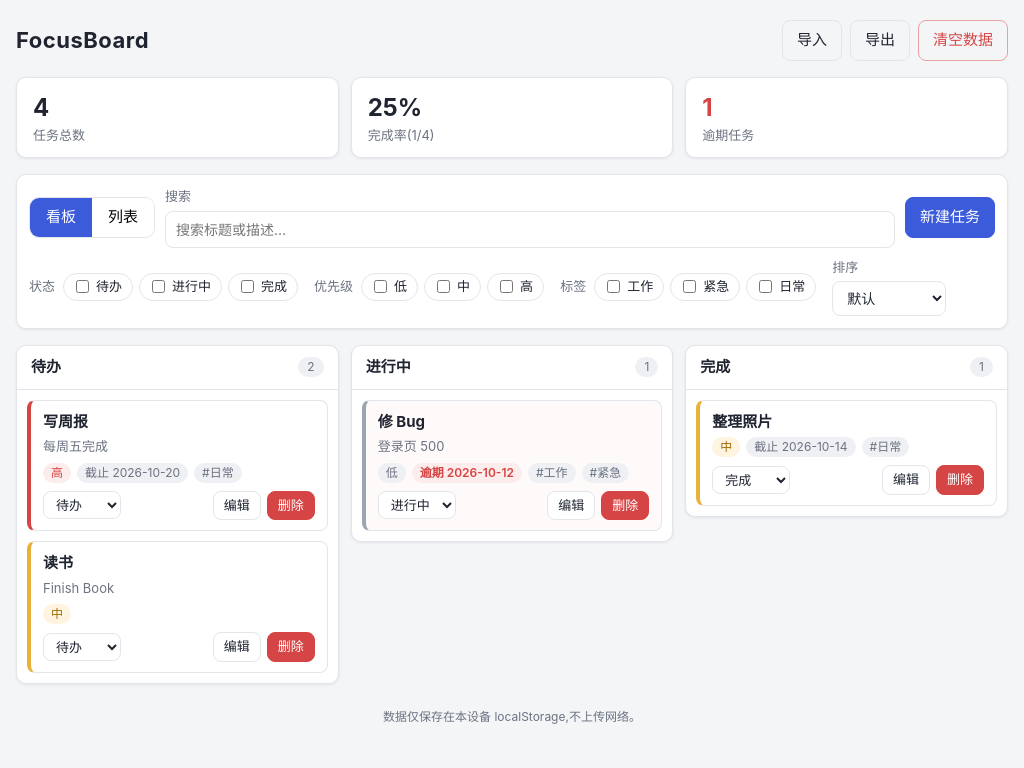
Test case: 键盘焦点管理 › 确认弹窗打开时点击背景外不删除
What coordinates should you click on to do the following:
click the button "删除" below "Finish Book"
I would click on:
 (291, 647)
Its box is [267,632,315,662].
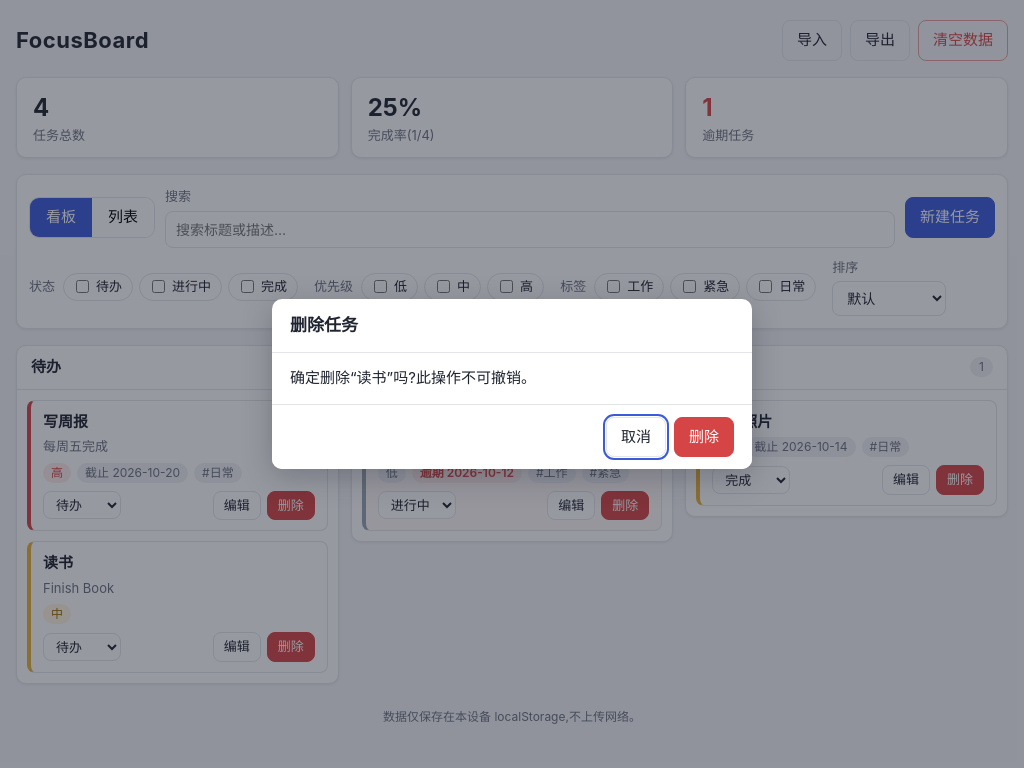
Result: the dialog is shown at [272,299,752,469]
What coordinates should you click on to do the following:
click the element with class "modal-overlay"
I would click on:
 (61, 384)
Its box is [0,0,1023,767].
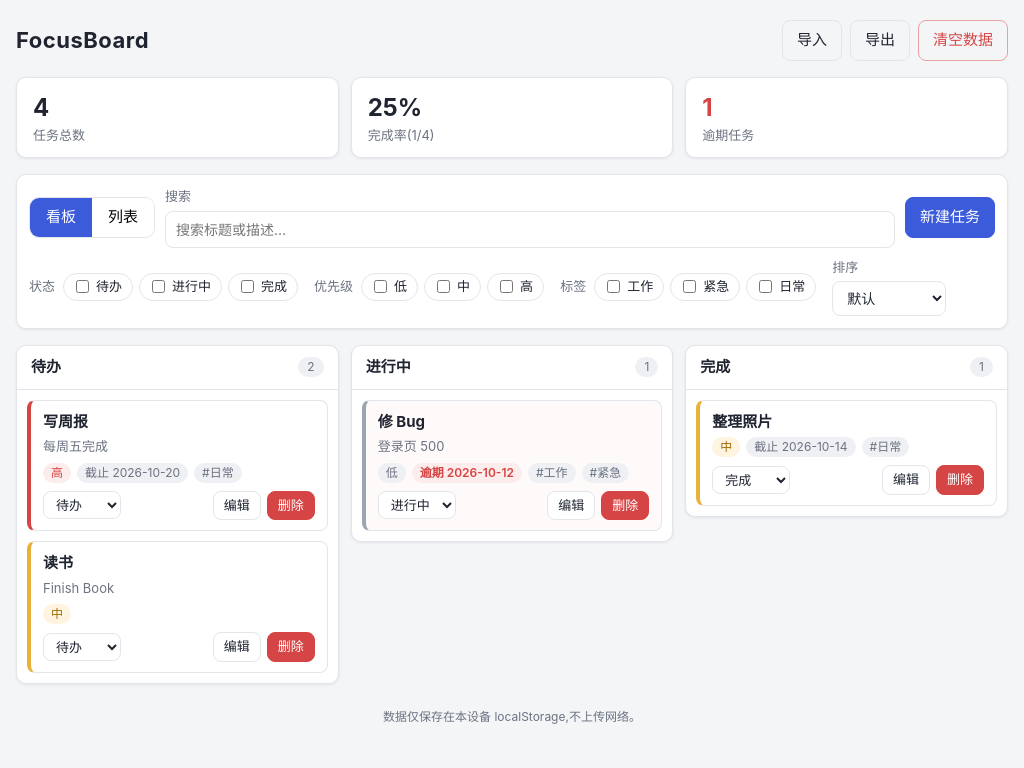
Expected: the heading "读书" is shown, [43,553,73,572]
Result: the dialog is gone
